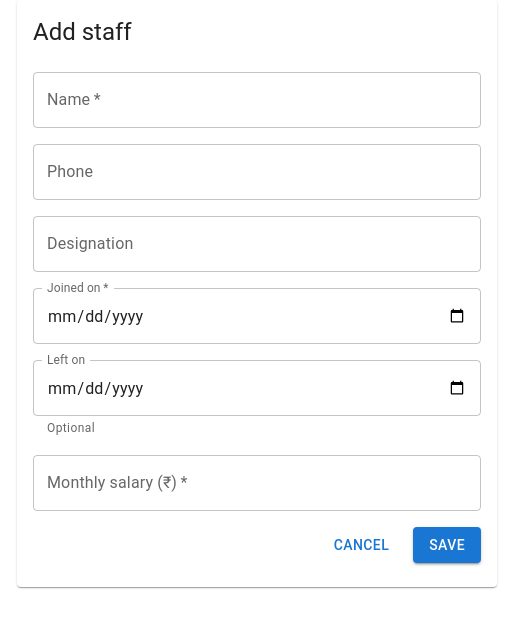
Test: requires a monthly salary instead of saving zero
Type "Ravi" into the field labelled "Name *" at (257, 100), box 33,72 -> 481,128
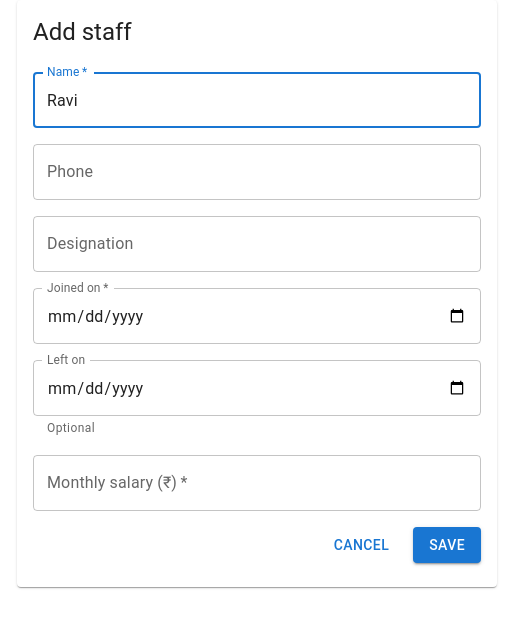
Type "2026-02-01" into the date field labelled "Joined on *" at (257, 316), box 33,288 -> 481,344
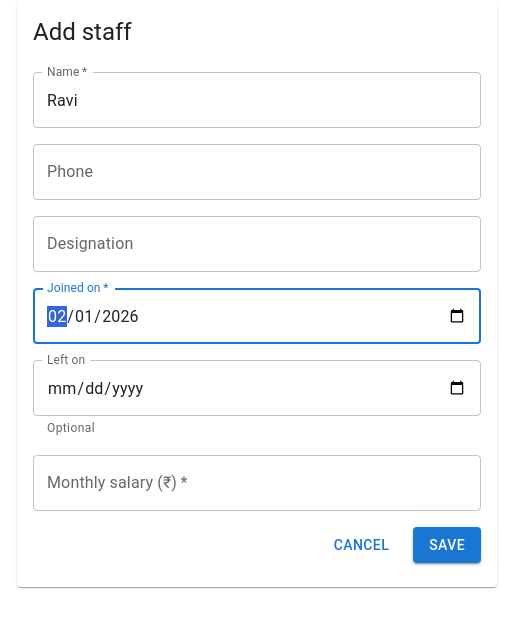
Click the button "Save" at (447, 545), box 413,527 -> 481,563
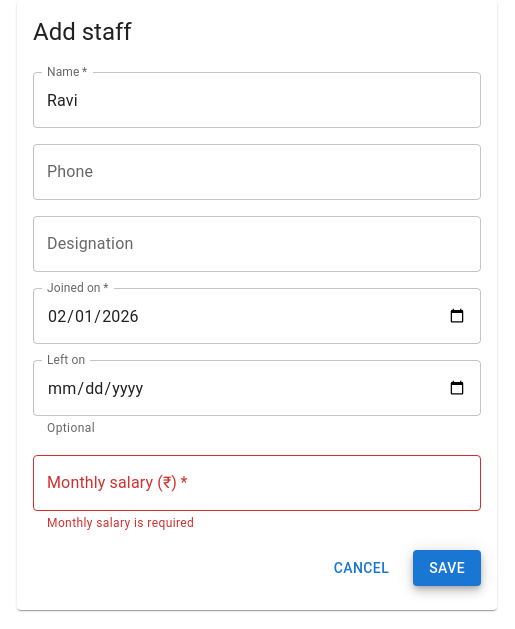
Check: the text "Monthly salary is required" is shown, box 47,516 -> 194,530
